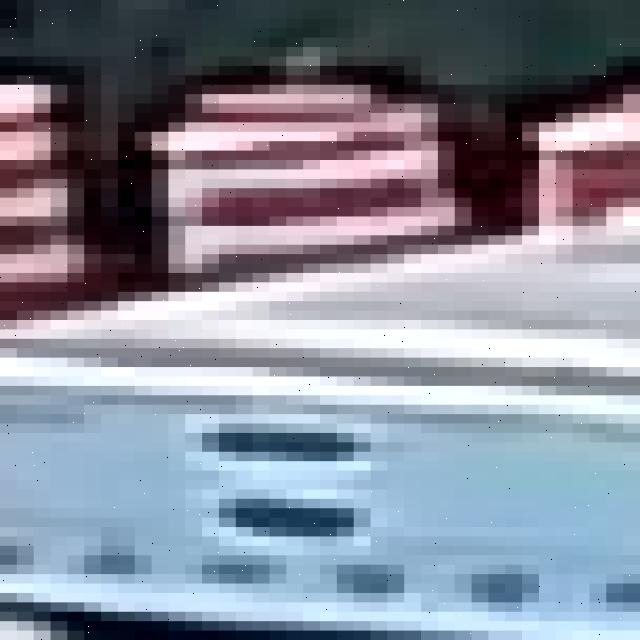big_cone: (156, 83, 452, 289)
